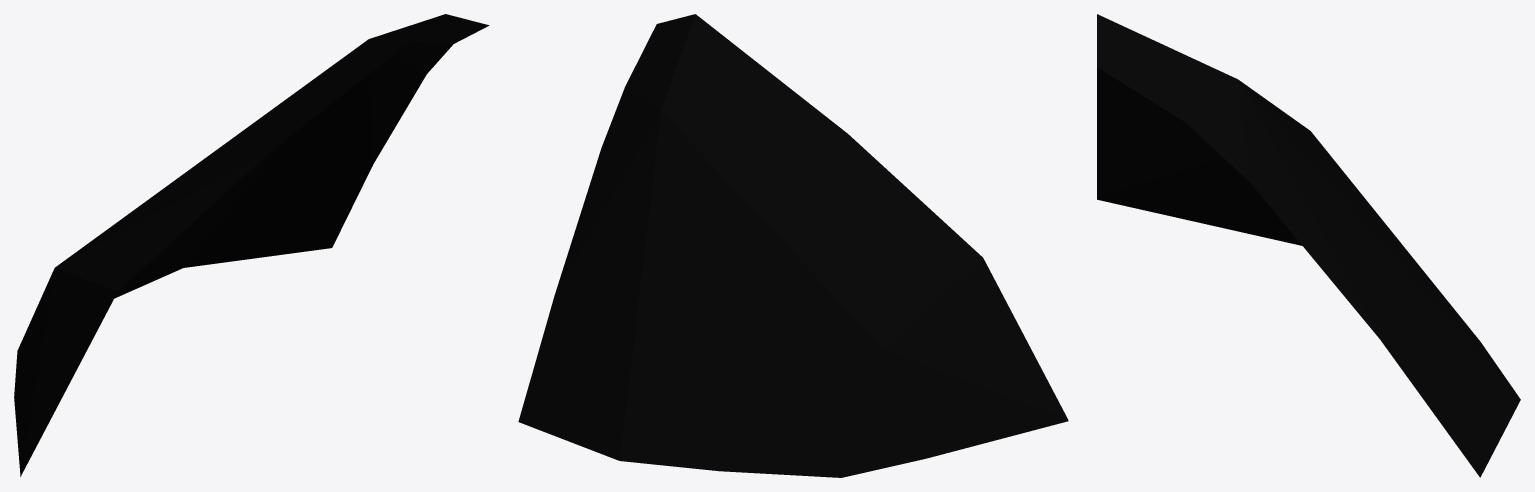
The picture shows the model from 3 angles, left to right: view 1: azimuth 30°, elevation 25°; view 2: azimuth 150°, elevation 25°; view 3: azimuth 270°, elevation 25°; orthographic projection. The views are drawn at different scales.
Bounding box in the file's own units: 0.8245 × 0.6049 × 0.5307.
1 material, 1 textured.
